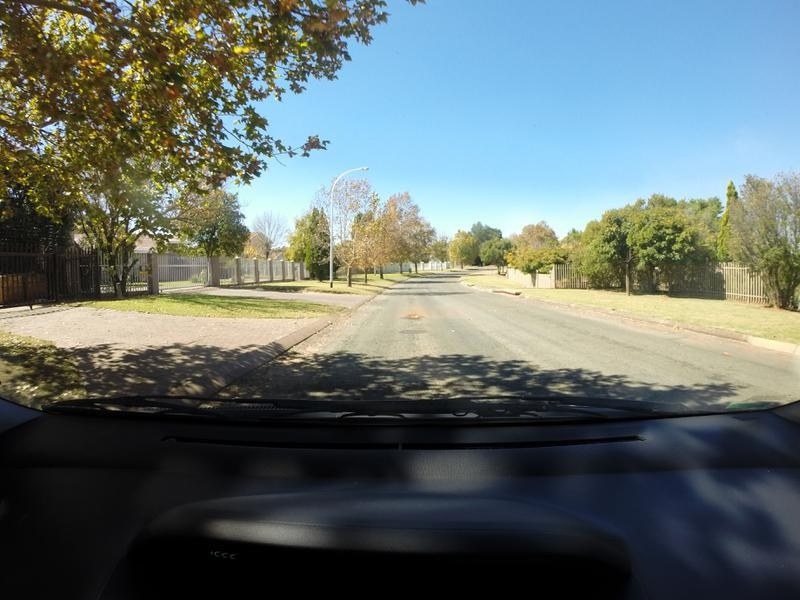pothole: (397, 306, 432, 328)
